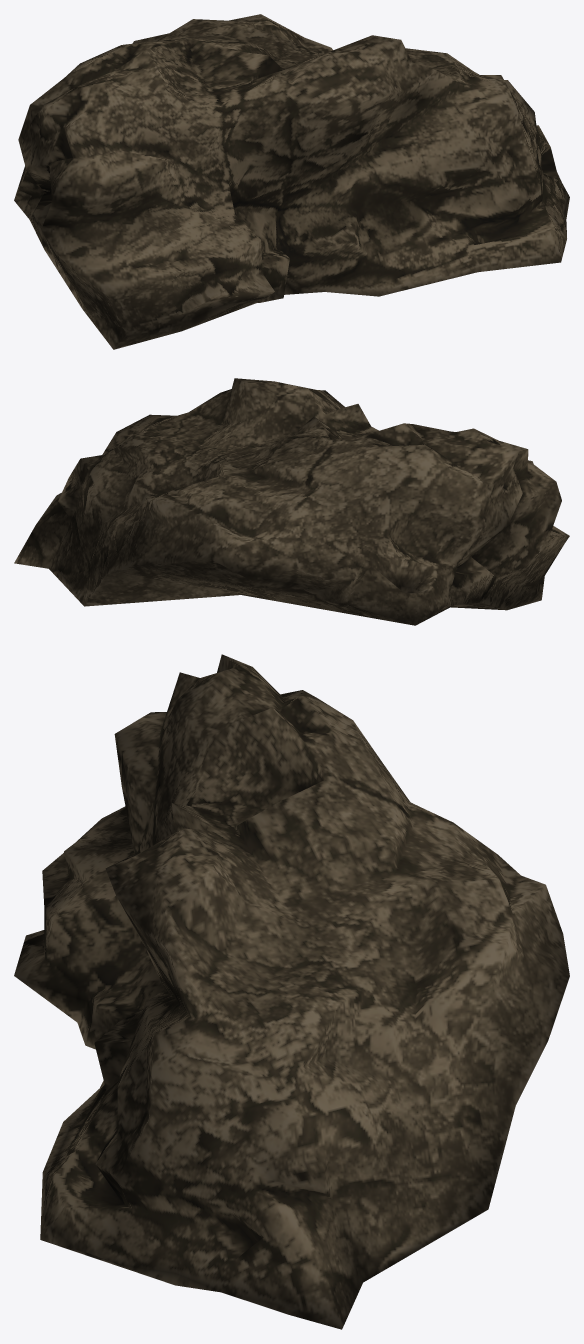
Rendered from mm8_deco_rock51.glb.
3 views of the same model, one above another, from view 1: azimuth 30°, elevation 25°; view 2: azimuth 150°, elevation 25°; view 3: azimuth 270°, elevation 25° (orthographic). The views are drawn at different scales.
Visible parts, largest first — view 1: Rock51; view 2: Rock51; view 3: Rock51.
Boxes of the visible parts, x1=… form: Rock51: x1=14, y1=14, x2=569, y2=349; Rock51: x1=14, y1=378, x2=569, y2=625; Rock51: x1=14, y1=654, x2=569, y2=1329.
Bounding box in the file's own units: 0.7685 × 0.3216 × 0.4797.
1 material, 1 textured.
